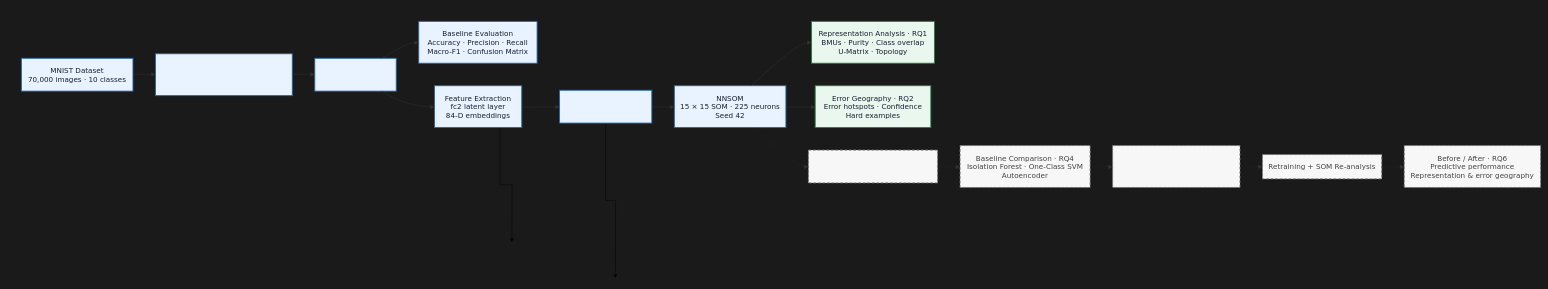
Image size: 1548x289. Some labels were removed from this diagram. Each missing label, with the centre of its shape:
"Train-Fitted Scaling MinMax [-1, 1: [605,106]
Baseline LeNet-5 CNN Classifier: [355,74]
Data Preparation Stratified Train / Validation / Test 49,000 / 10,500 / 10,500: [223,74]
Novelty / OOD · RQ3 Quantization & topology signals: [873,166]
SOM-Guided Intervention · RQ5 Hard-example mining Targeted augmentation: [1176,166]
